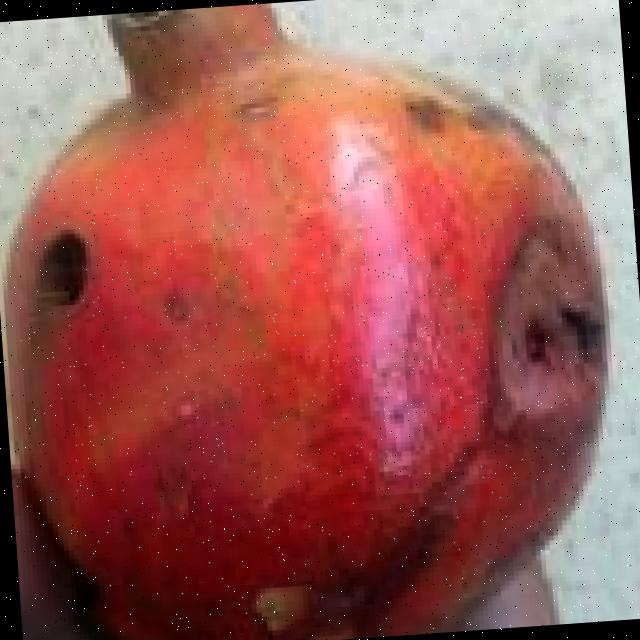Bad_Pomegranate-0-1-day: (0, 3, 610, 640)
